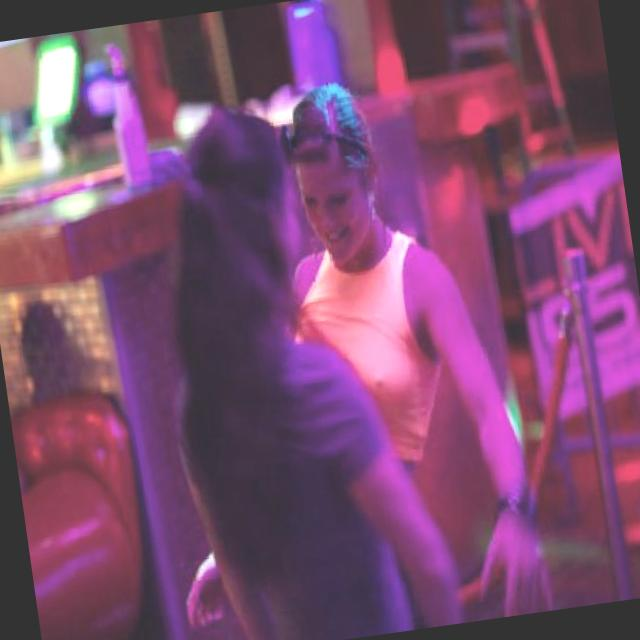Person: (119, 54, 556, 640), (130, 87, 458, 640), (0, 287, 147, 564)
